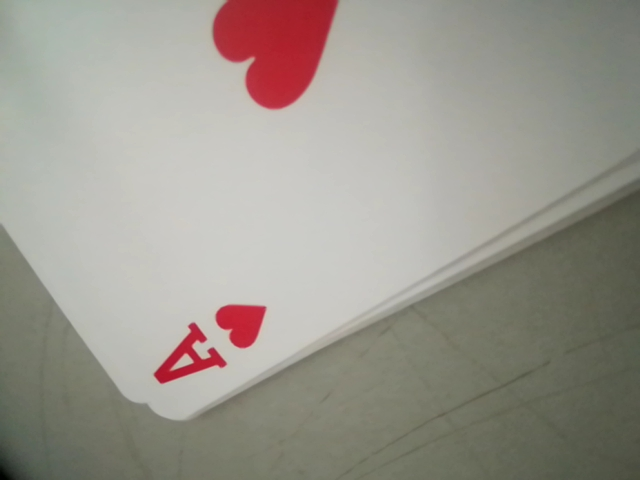hx a: (146, 296, 269, 395)
